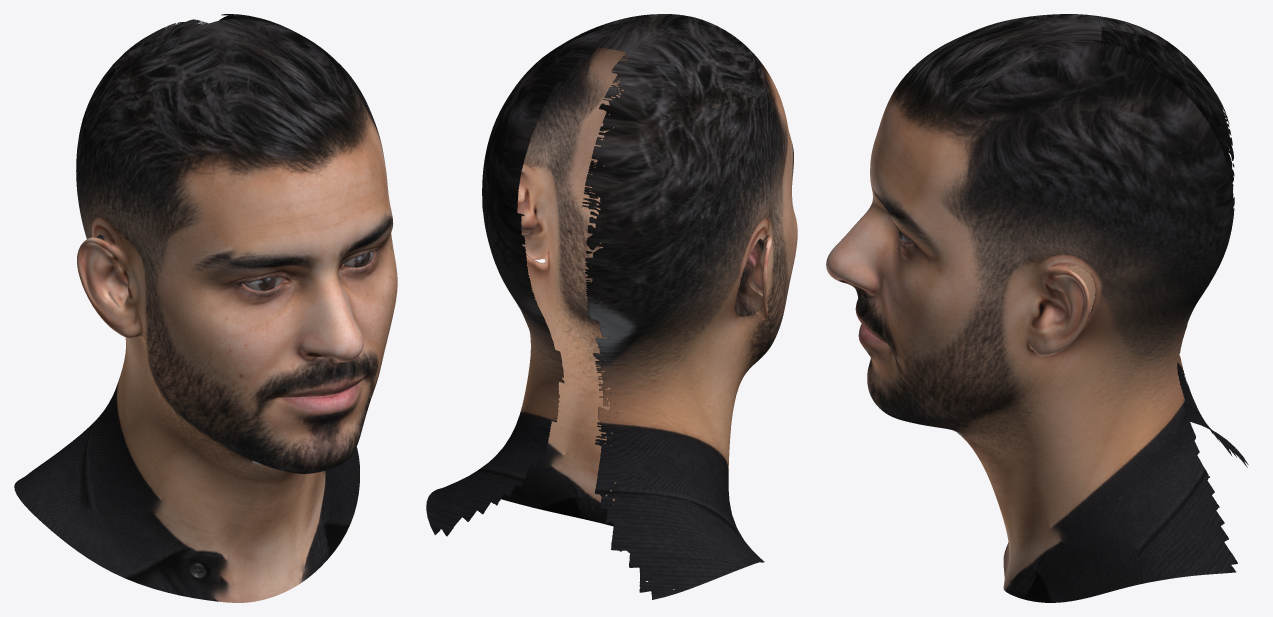
3 renders of one model, left to right at view 1: azimuth 30°, elevation 25°; view 2: azimuth 150°, elevation 25°; view 3: azimuth 270°, elevation 25°, orthographic. The views are drawn at different scales.
Parts seen in each view (by area): view 1: FBHead; view 2: FBHead; view 3: FBHead.
Boxes of the visible parts, left/top/right/bottom form: FBHead: left=14, top=14, right=397, bottom=602; FBHead: left=426, top=14, right=797, bottom=599; FBHead: left=826, top=14, right=1248, bottom=602.
Bounding box in the file's own units: 200 × 325 × 231.
1 material, 1 textured.
